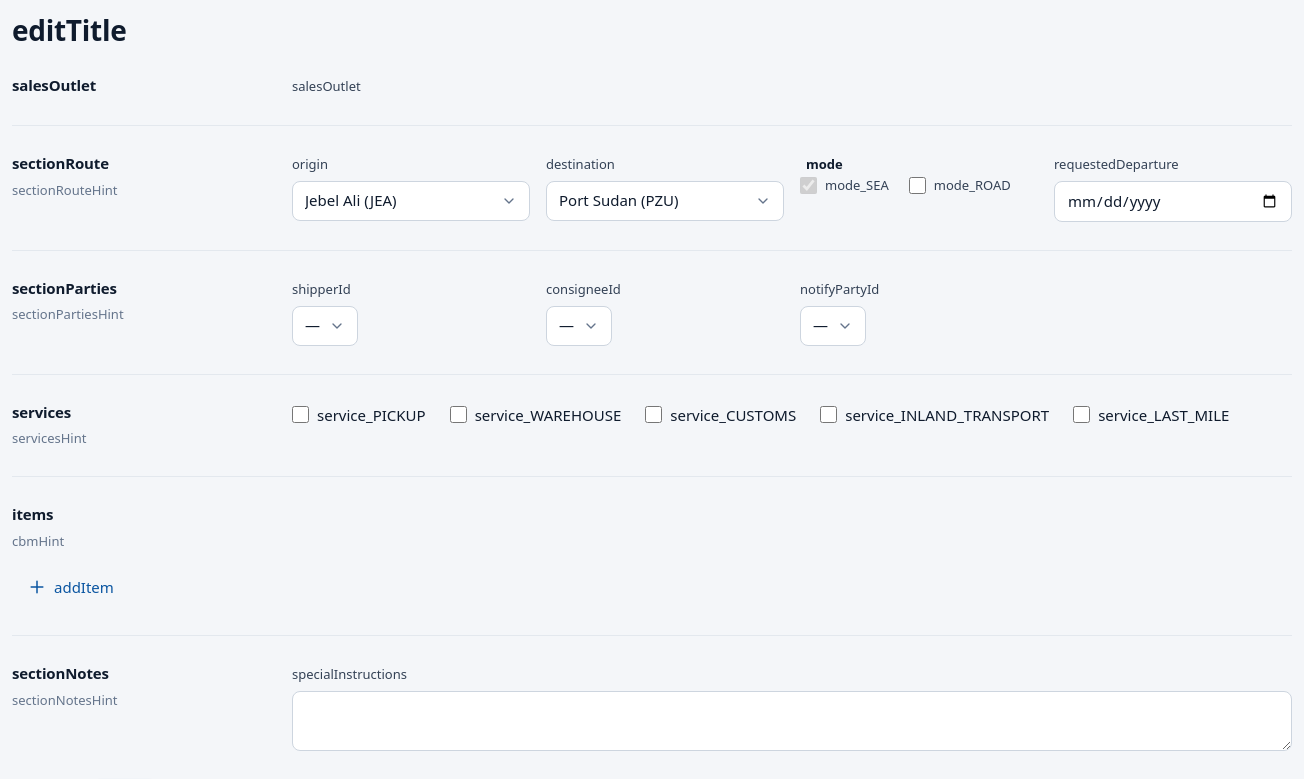
BookingForm mode, cargo, services and CBM (owner, 2026-10-19) › sends sea and road together as SEA_ROAD, leaving FCL/LCL to the API
The width and height of the screenshot is (1304, 779).
Expected: the checkbox labelled "mode_SEA" is checked, [800,177,817,194]
Expected: the checkbox labelled "mode_SEA" is disabled, [800,177,817,194]
Click the checkbox labelled "mode_ROAD" at (917, 185), box [909,177,926,194]
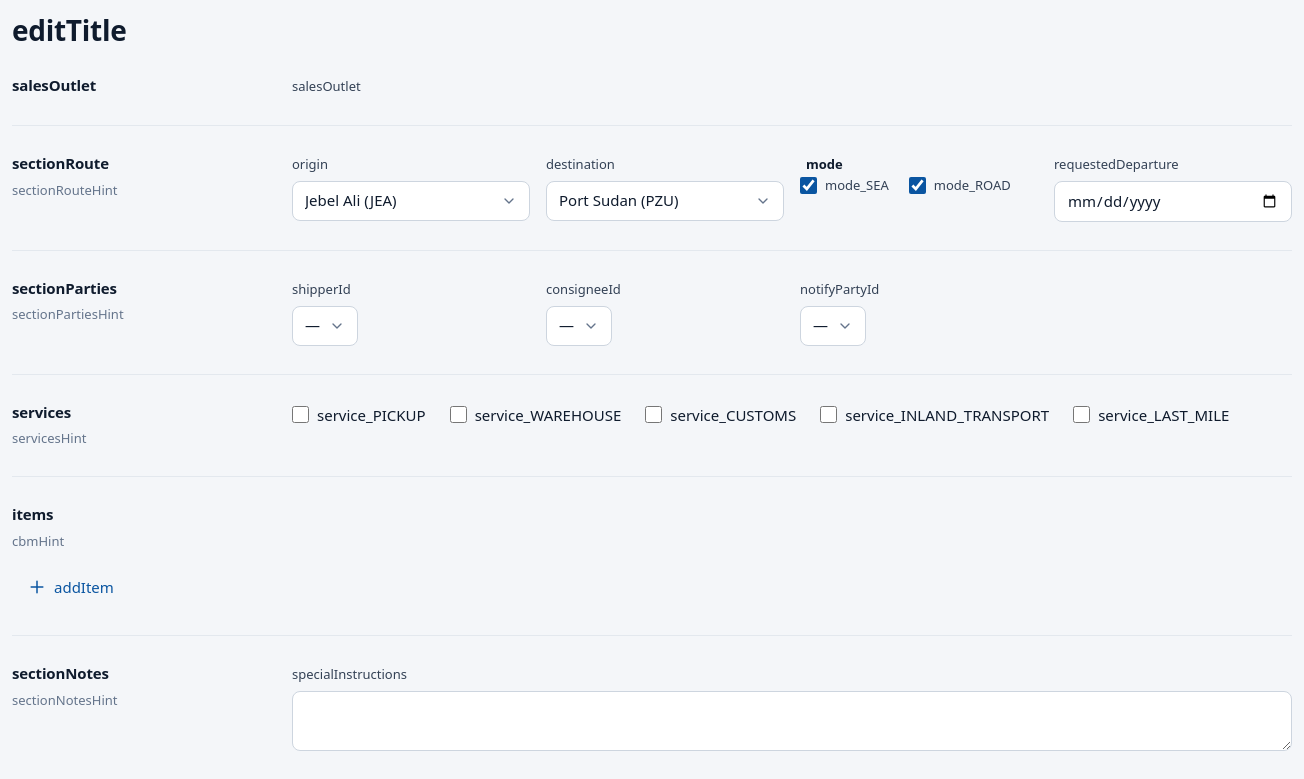
Now the checkbox labelled "mode_SEA" is enabled, box [800,177,817,194]
